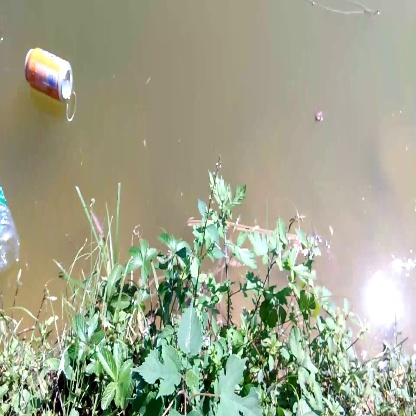bottle: (21, 42, 79, 106)
